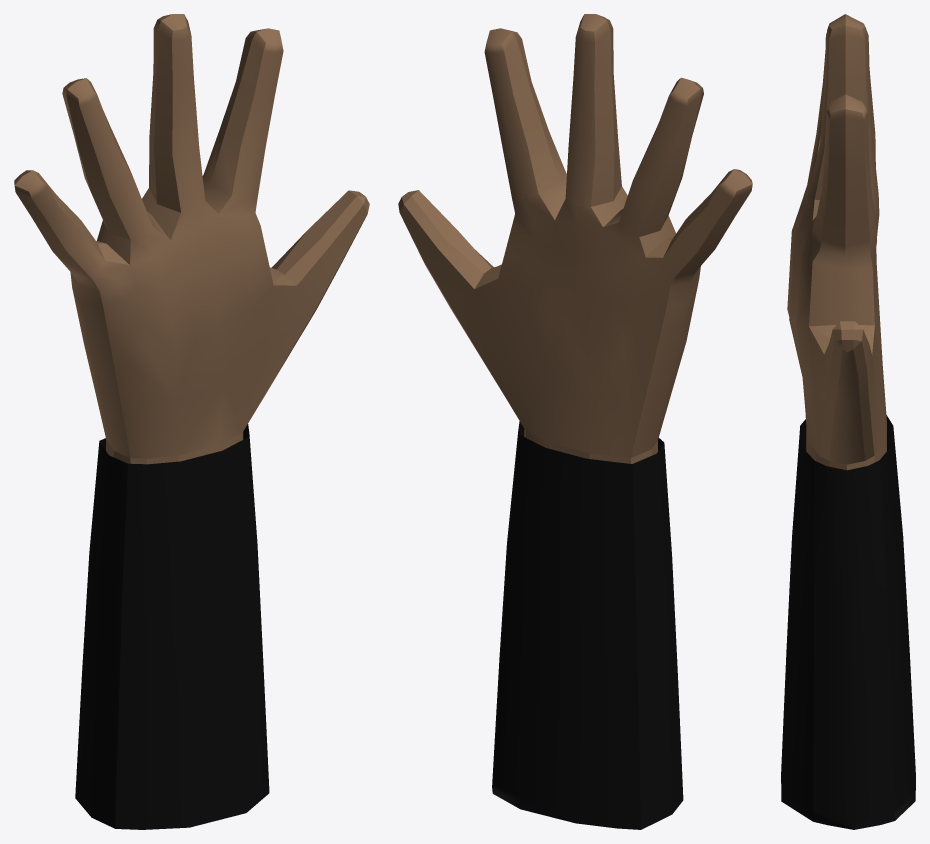
File: HAND.fbx
The picture shows the model from 3 angles, left to right: view 1: azimuth 30°, elevation 25°; view 2: azimuth 150°, elevation 25°; view 3: azimuth 270°, elevation 25°; orthographic projection. The views are drawn at different scales.
Parts seen in each view (by area): view 1: HAND; view 2: HAND; view 3: HAND.
Boxes of the visible parts, left/top/right/bottom form: HAND: left=14, top=14, right=369, bottom=829; HAND: left=398, top=14, right=752, bottom=829; HAND: left=781, top=14, right=915, bottom=829.
Bounding box in the file's own units: 21.05 × 44.81 × 7.14.
